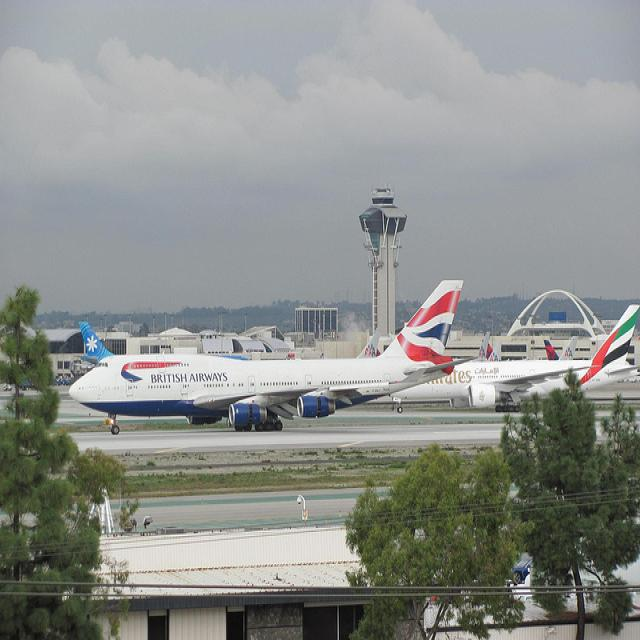Vehicle: (508, 570, 538, 602)
